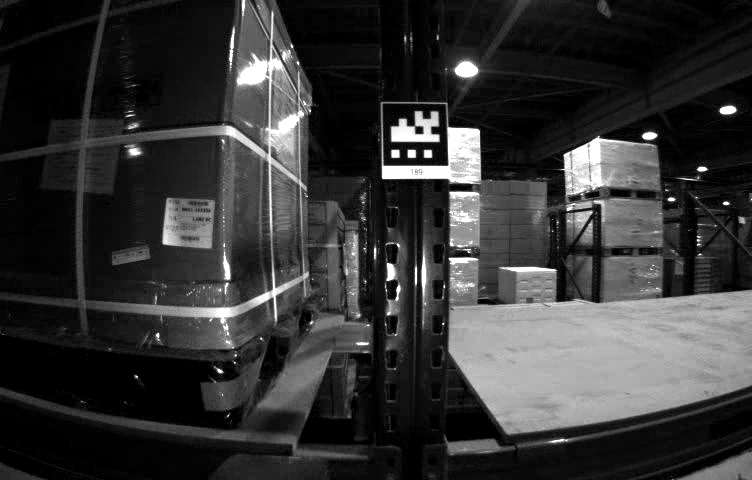True Barcode: (163, 196, 216, 253)
